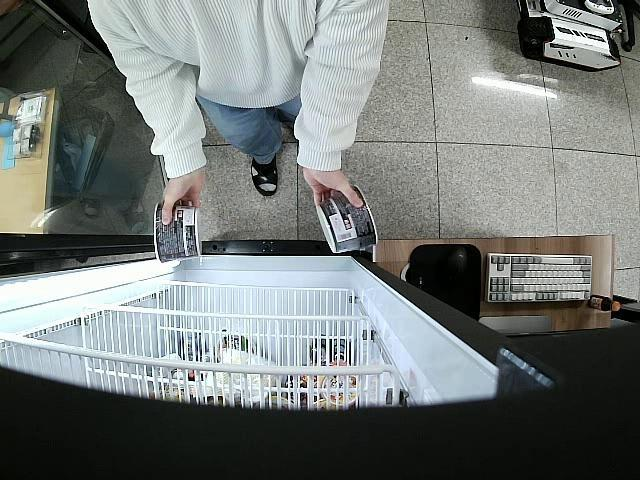07_buldak_L: (314, 182, 378, 252), (153, 200, 202, 264)
